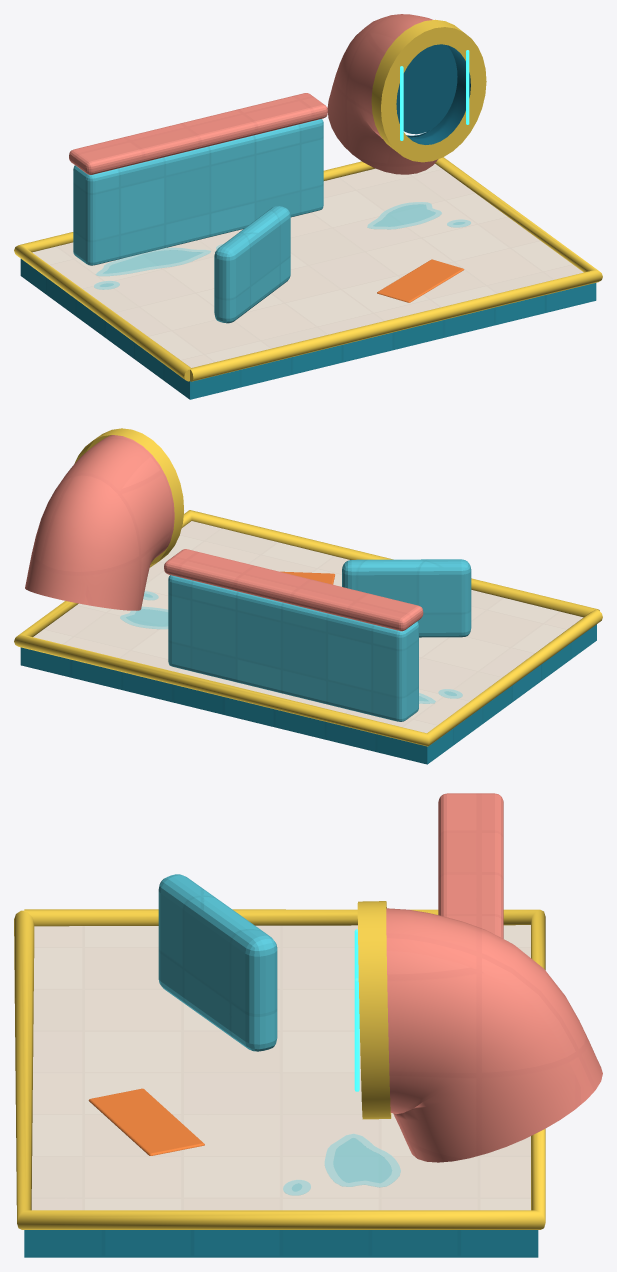
The model's file is twin_bays_splash_arena_art_v2_hero_review.glb.
3 renders of one model, top to bottom at view 1: azimuth 30°, elevation 25°; view 2: azimuth 150°, elevation 25°; view 3: azimuth 270°, elevation 25°, orthographic. The views are drawn at different scales.
Visible parts, largest first — view 1: Hero_TBSA_DryCream, Hero_TBSA_Cyan, Hero_TBSA_SafetyYellow, Hero_TBSA_CoralSoft, Hero_TBSA_CyanDark, Hero_TBSA_PortalRecess, Hero_TBSA_ShallowWaterWetBed, Hero_TBSA_ShallowWaterSurface, Hero_TBSA_PickupOrange, Hero_TBSA_ShallowWaterMeniscus, Hero_TBSA_PortalCyan; view 2: Hero_TBSA_Cyan, Hero_TBSA_CoralSoft, Hero_TBSA_DryCream, Hero_TBSA_SafetyYellow, Hero_TBSA_CyanDark, Hero_TBSA_ShallowWaterWetBed, Hero_TBSA_ShallowWaterSurface, Hero_TBSA_ShallowWaterMeniscus; view 3: Hero_TBSA_DryCream, Hero_TBSA_CoralSoft, Hero_TBSA_SafetyYellow, Hero_TBSA_Cyan, Hero_TBSA_CyanDark, Hero_TBSA_PickupOrange, Hero_TBSA_ShallowWaterWetBed, Hero_TBSA_ShallowWaterSurface, Hero_TBSA_ShallowWaterMeniscus, Hero_TBSA_PortalCyan.
Boxes of the visible parts, x1=… form: Hero_TBSA_DryCream: x1=32, y1=164, x2=583, y2=367; Hero_TBSA_Cyan: x1=73, y1=119, x2=323, y2=323; Hero_TBSA_SafetyYellow: x1=14, y1=19, x2=602, y2=381; Hero_TBSA_CoralSoft: x1=69, y1=14, x2=438, y2=174; Hero_TBSA_CyanDark: x1=20, y1=259, x2=596, y2=399; Hero_TBSA_PortalRecess: x1=396, y1=44, x2=470, y2=144; Hero_TBSA_ShallowWaterWetBed: x1=94, y1=203, x2=470, y2=289; Hero_TBSA_ShallowWaterSurface: x1=100, y1=204, x2=464, y2=286; Hero_TBSA_PickupOrange: x1=377, y1=259, x2=464, y2=302; Hero_TBSA_ShallowWaterMeniscus: x1=94, y1=202, x2=470, y2=289; Hero_TBSA_PortalCyan: x1=400, y1=50, x2=469, y2=140; Hero_TBSA_Cyan: x1=168, y1=559, x2=471, y2=721; Hero_TBSA_CoralSoft: x1=25, y1=435, x2=423, y2=631; Hero_TBSA_DryCream: x1=33, y1=521, x2=583, y2=733; Hero_TBSA_SafetyYellow: x1=14, y1=428, x2=602, y2=746; Hero_TBSA_CyanDark: x1=20, y1=624, x2=596, y2=764; Hero_TBSA_ShallowWaterWetBed: x1=120, y1=592, x2=461, y2=703; Hero_TBSA_ShallowWaterSurface: x1=126, y1=594, x2=456, y2=700; Hero_TBSA_ShallowWaterMeniscus: x1=120, y1=591, x2=462, y2=703; Hero_TBSA_DryCream: x1=31, y1=925, x2=530, y2=1210; Hero_TBSA_CoralSoft: x1=386, y1=793, x2=602, y2=1162; Hero_TBSA_SafetyYellow: x1=14, y1=901, x2=545, y2=1229; Hero_TBSA_Cyan: x1=158, y1=874, x2=277, y2=1051; Hero_TBSA_CyanDark: x1=24, y1=1230, x2=538, y2=1257; Hero_TBSA_PickupOrange: x1=88, y1=1088, x2=204, y2=1155; Hero_TBSA_ShallowWaterWetBed: x1=283, y1=1134, x2=400, y2=1195; Hero_TBSA_ShallowWaterSurface: x1=292, y1=1138, x2=391, y2=1191; Hero_TBSA_ShallowWaterMeniscus: x1=283, y1=1133, x2=400, y2=1195; Hero_TBSA_PortalCyan: x1=354, y1=929, x2=359, y2=1091.
Size of the model in its own units: 18.44 by 8.68 by 14.9.
11 materials, 4 textured.
